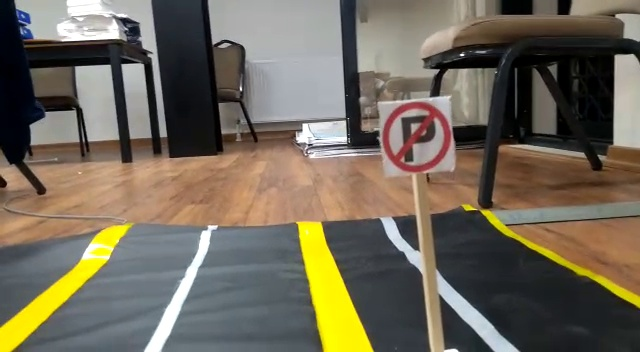park_yapilmaz: (374, 98, 455, 175)
